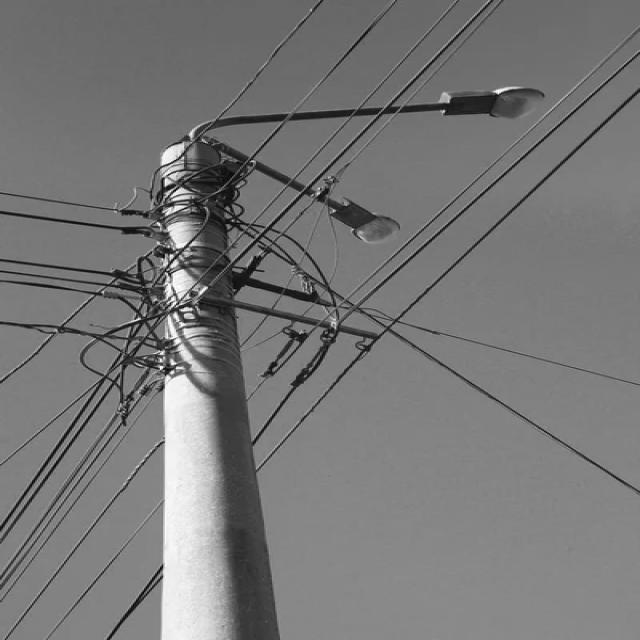Pole: (155, 140, 280, 639)
